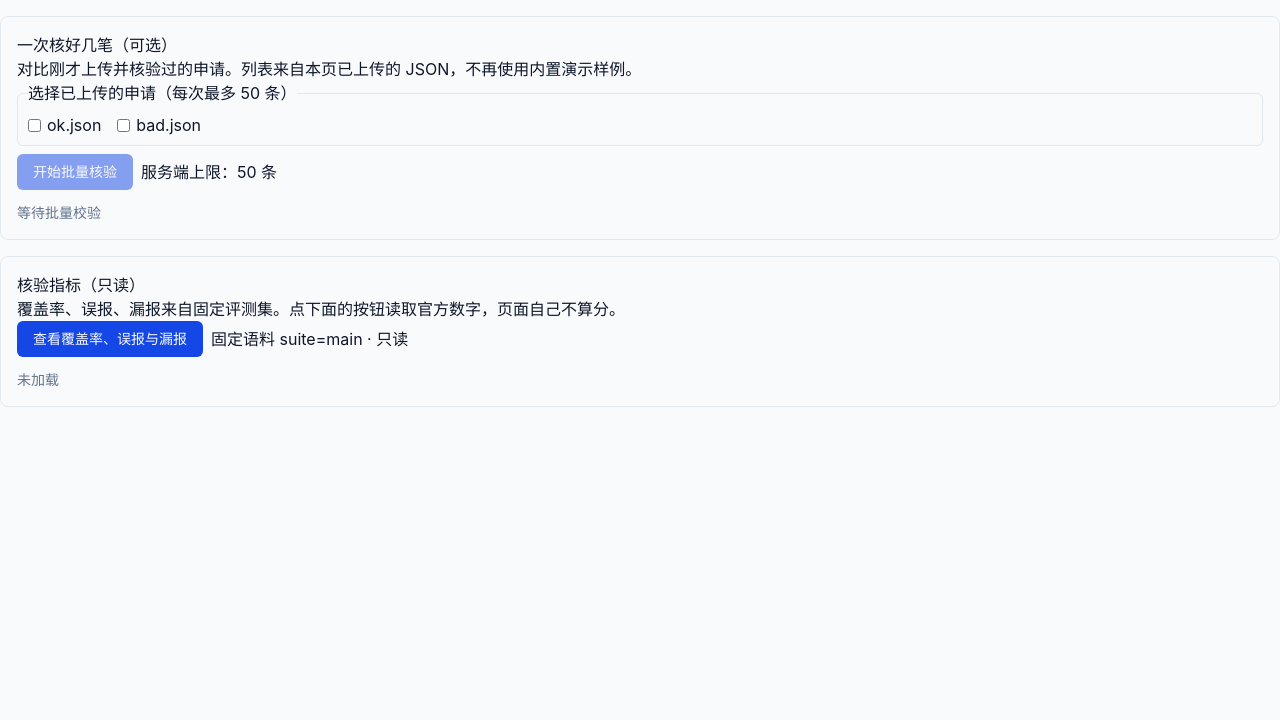
it: DemoBatchSummaryPanel › loads the read-only summary only on explicit click with server-owned claim labels and no PASS
Expected: the element with test id "demo-eval-panel" is shown, x1=0 y1=256 x2=1279 y2=407
Expected: the message with test id "demo-eval-status" reads "未加载", x1=17 y1=371 x2=59 y2=388
What coordinates should you click on to do the following:
click the button with test id "demo-eval-load-button"
I would click on:
 (110, 339)
Its box is x1=17 y1=321 x2=203 y2=357.
(page scrolled)
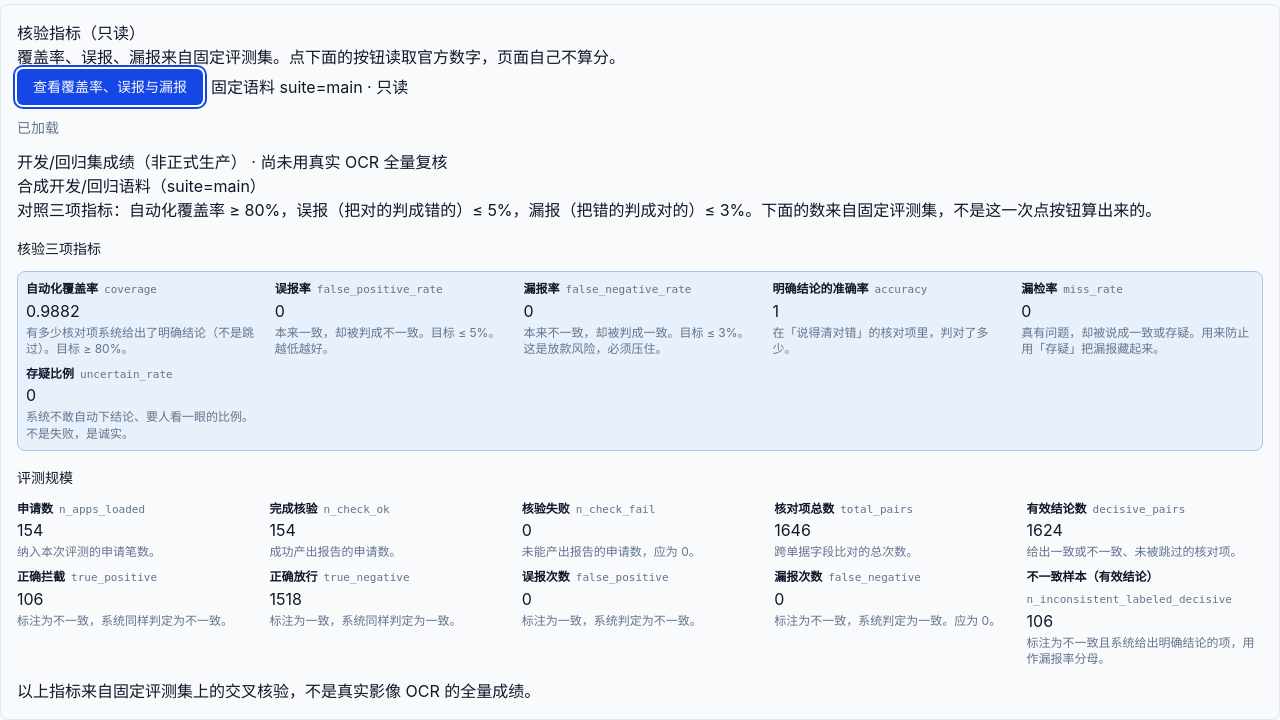
Now the message with test id "demo-eval-status" reads "已加载", box x1=17 y1=119 x2=59 y2=136
Now the text "合成开发/回归语料（suite=main）" is not empty, box x1=17 y1=176 x2=266 y2=196
Now the element with test id "demo-eval-counts" shows "total_pairs", box x1=840 y1=503 x2=913 y2=516
